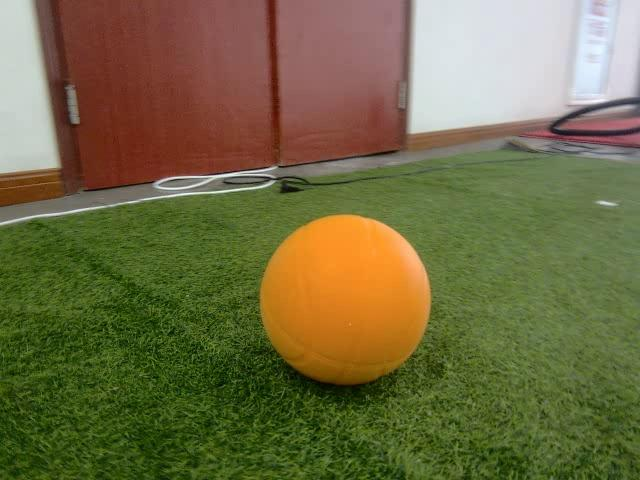orange_ball: (258, 212, 432, 390)
